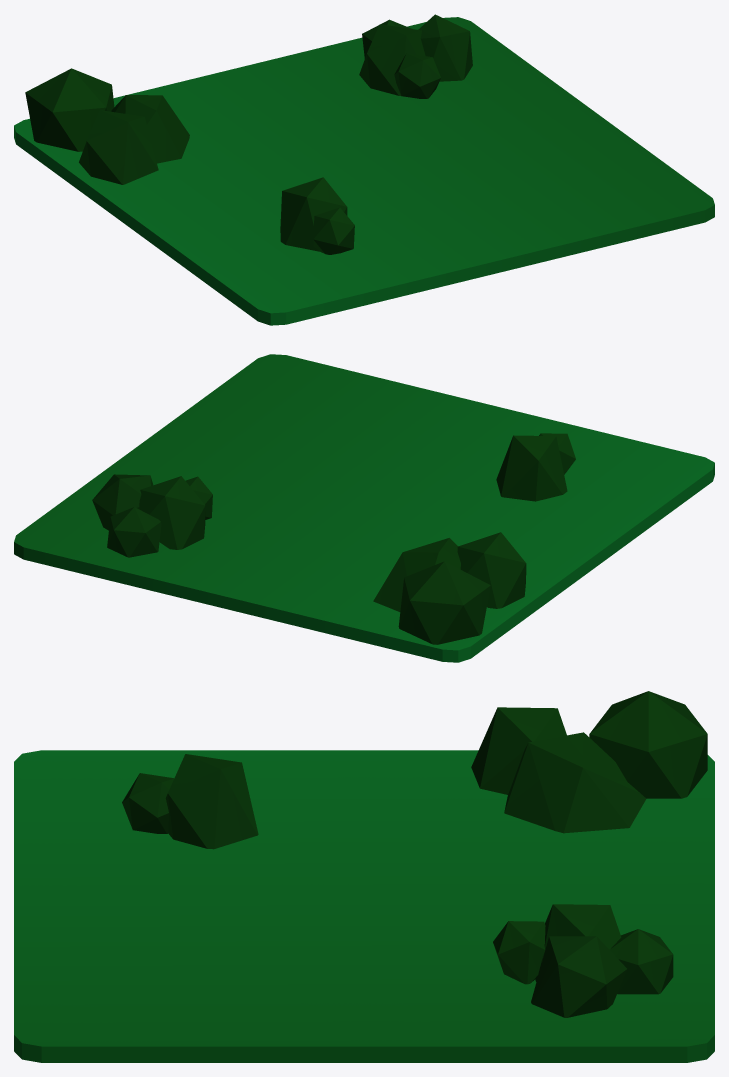
The model's file is garden1.gltf.
The picture shows the model from 3 angles, top to bottom: view 1: azimuth 30°, elevation 25°; view 2: azimuth 150°, elevation 25°; view 3: azimuth 270°, elevation 25°; orthographic projection. The views are drawn at different scales.
Parts seen in each view (by area): view 1: garden1; view 2: garden1; view 3: garden1.
Part boxes in pixels (x1,y1,x2,y2): garden1: [14, 14, 714, 325]; garden1: [14, 354, 714, 662]; garden1: [14, 691, 714, 1062].
Bounding box in the file's own units: 12.72 × 2.05 × 12.72.
Materials: 1 (1 with a texture image).
